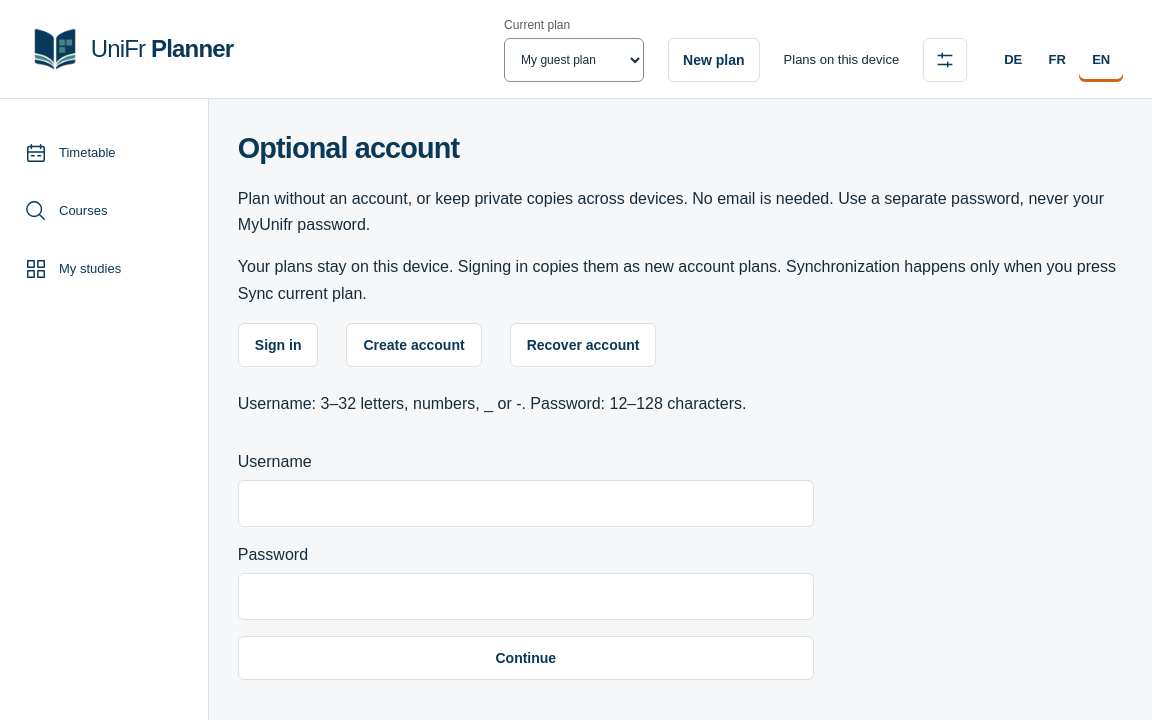
Test: offers optional accounts without replacing local plans; hides recovery after acknowledgement
The image size is (1152, 720).
Expected: the heading "Optional account" is shown, top-left (238, 132), bottom-right (459, 164)
Click the button "Create account": (414, 345) top-left (346, 323), bottom-right (482, 367)
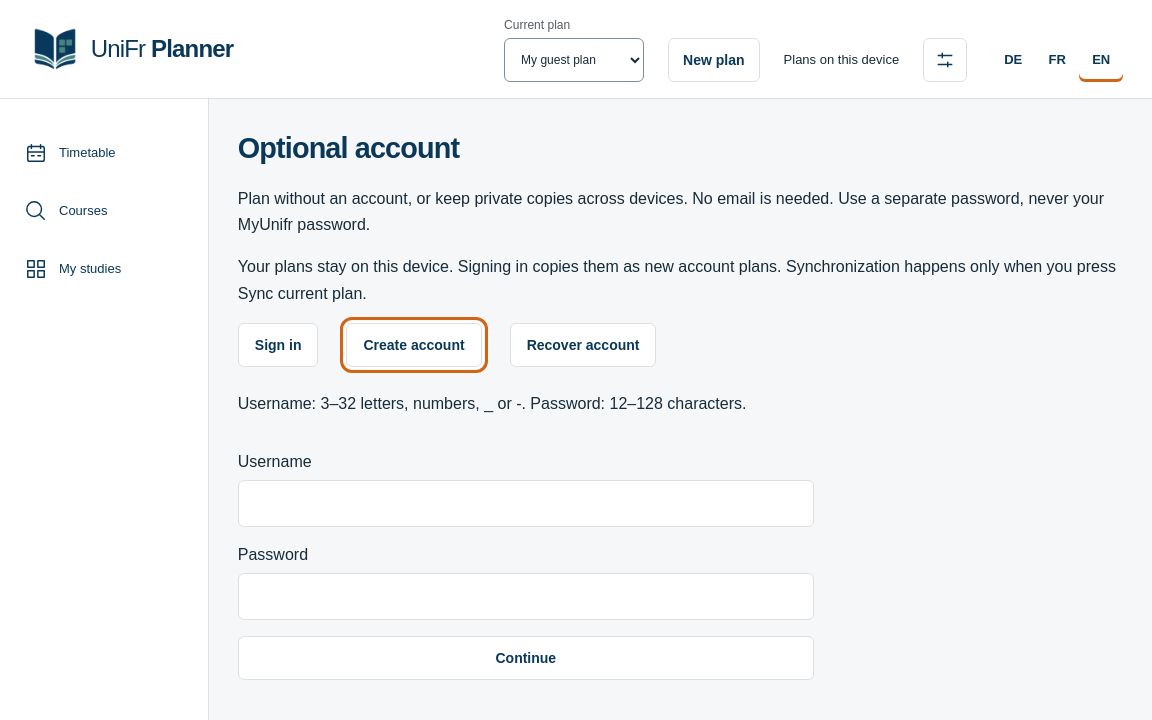
In the field labelled "Username": (526, 503) top-left (238, 480), bottom-right (814, 527), type "alice"
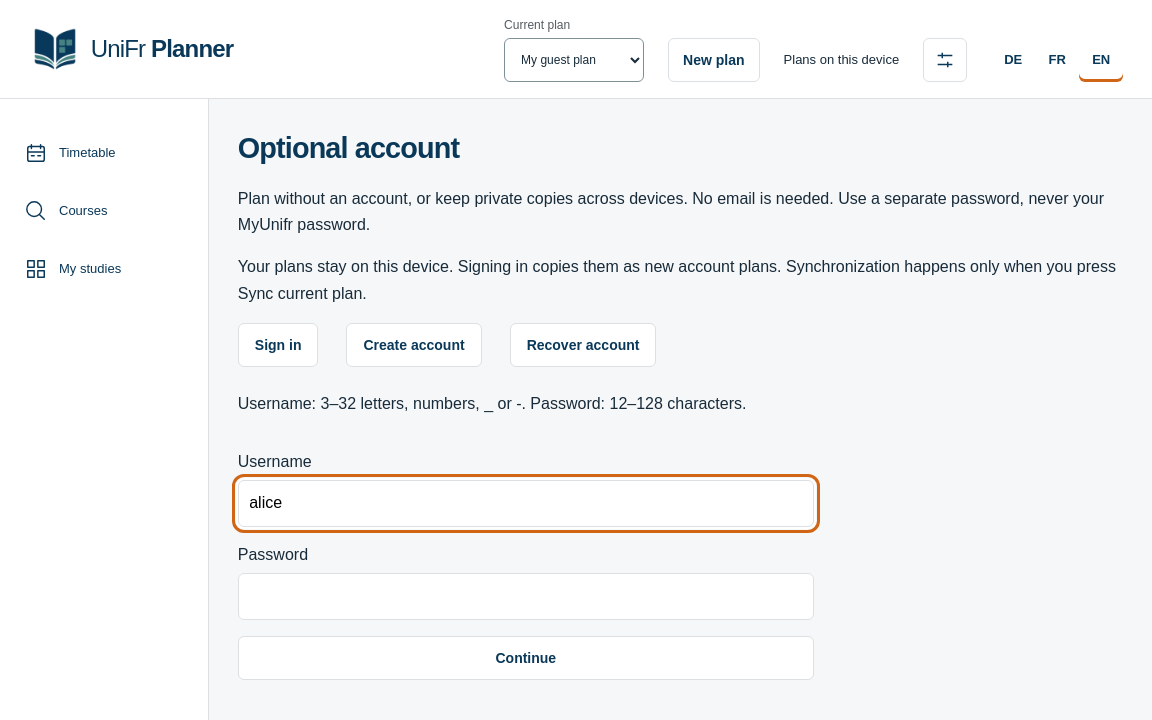
In the password field labelled "Password": (526, 596) top-left (238, 573), bottom-right (814, 620), type "long unique passphrase"
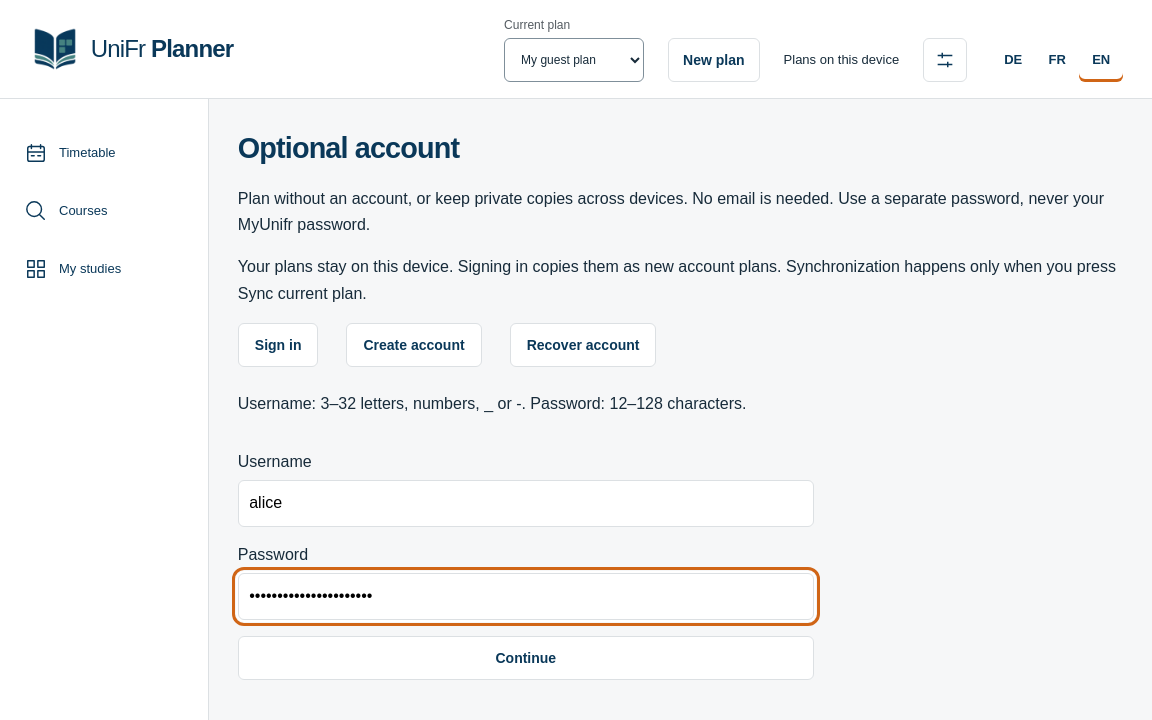
Click the button "Continue": (526, 658) top-left (238, 636), bottom-right (814, 680)
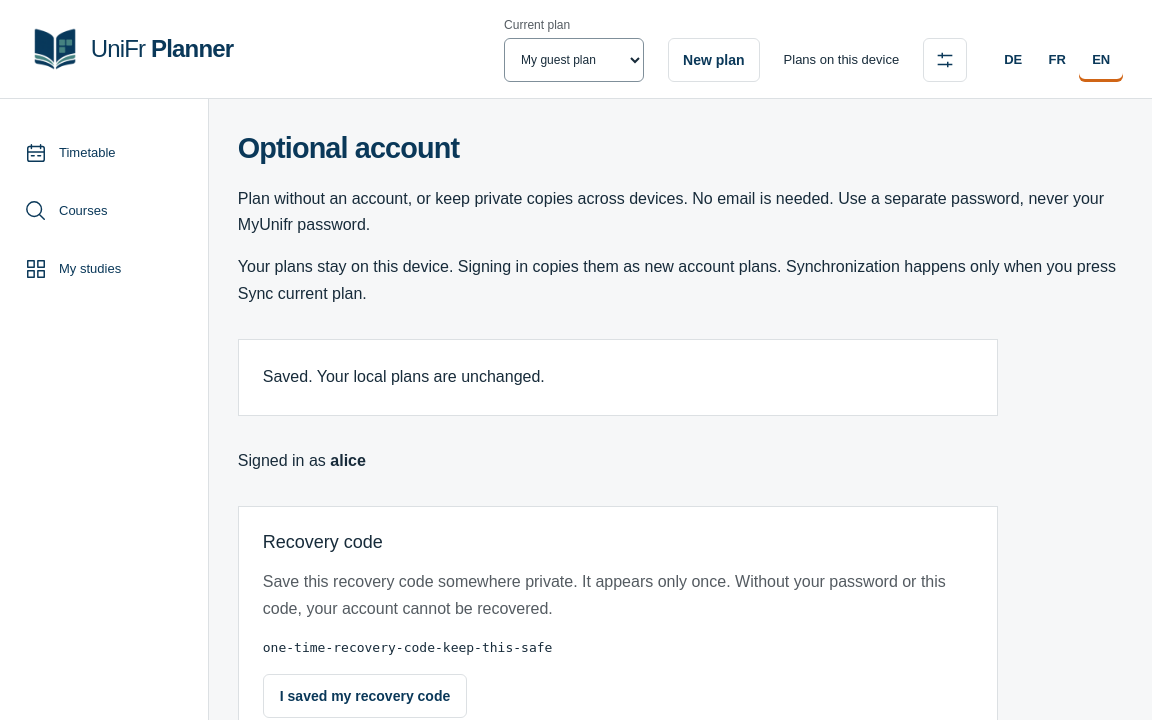
Expected: the text "one-time-recovery-code-keep-this-safe" is shown, top-left (263, 640), bottom-right (552, 655)
Click the button "I saved my recovery code": (365, 696) top-left (263, 674), bottom-right (467, 718)
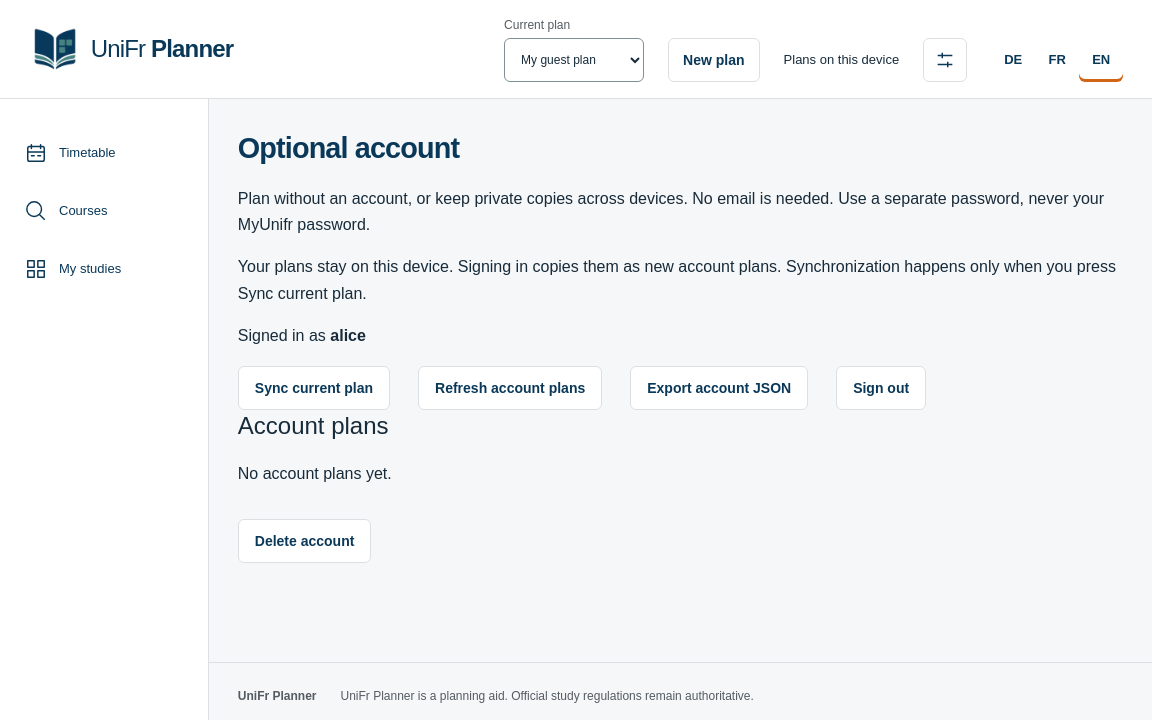
Expected: the text "alice" is shown, top-left (330, 327), bottom-right (366, 344)
Expected: the text "one-time-recovery-code-keep-this-safe" is gone
